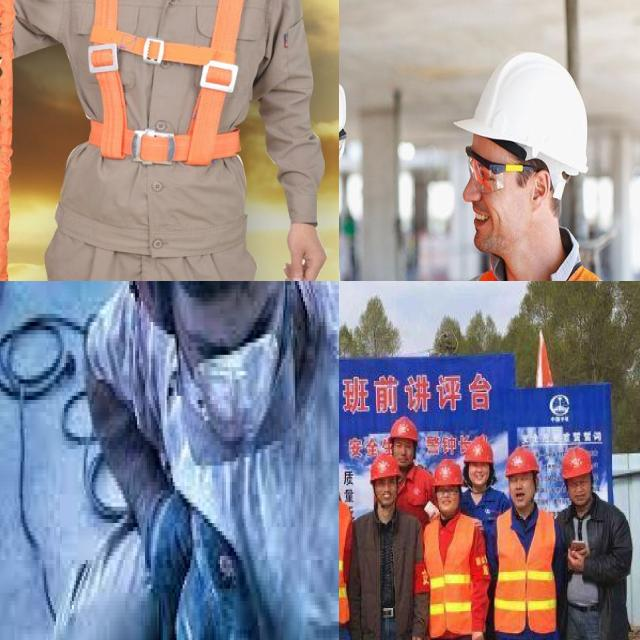Harness: (73, 0, 249, 205)
No_Ear-Protection: (531, 159, 551, 214)
face_nomask: (458, 144, 538, 266), (565, 471, 599, 508), (508, 467, 534, 512), (374, 477, 397, 512), (392, 440, 418, 470), (436, 484, 460, 512), (470, 459, 491, 490)
glasses: (461, 141, 512, 196)
hand_noglove: (566, 544, 582, 579), (467, 625, 488, 640), (404, 633, 425, 640)
head_helmet: (451, 52, 592, 164), (560, 442, 593, 479), (504, 442, 538, 474), (386, 414, 418, 442), (462, 435, 494, 463), (369, 451, 402, 478), (432, 458, 463, 486)
person: (403, 54, 640, 281), (555, 445, 629, 640), (491, 443, 558, 640), (351, 446, 419, 640), (424, 461, 486, 640), (458, 432, 511, 540), (392, 411, 432, 526)
vest: (423, 513, 487, 639), (492, 508, 556, 632)
